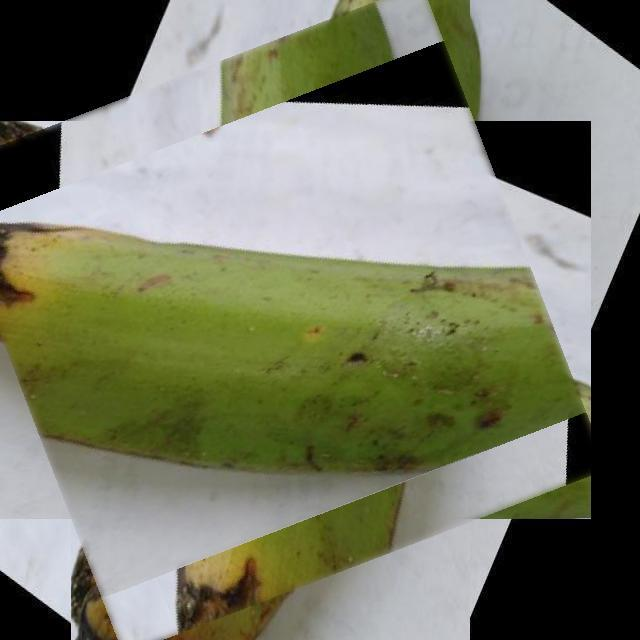Verde: (0, 23, 568, 618)
